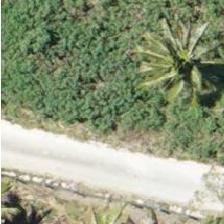coconut_tree: (148, 18, 223, 108)
